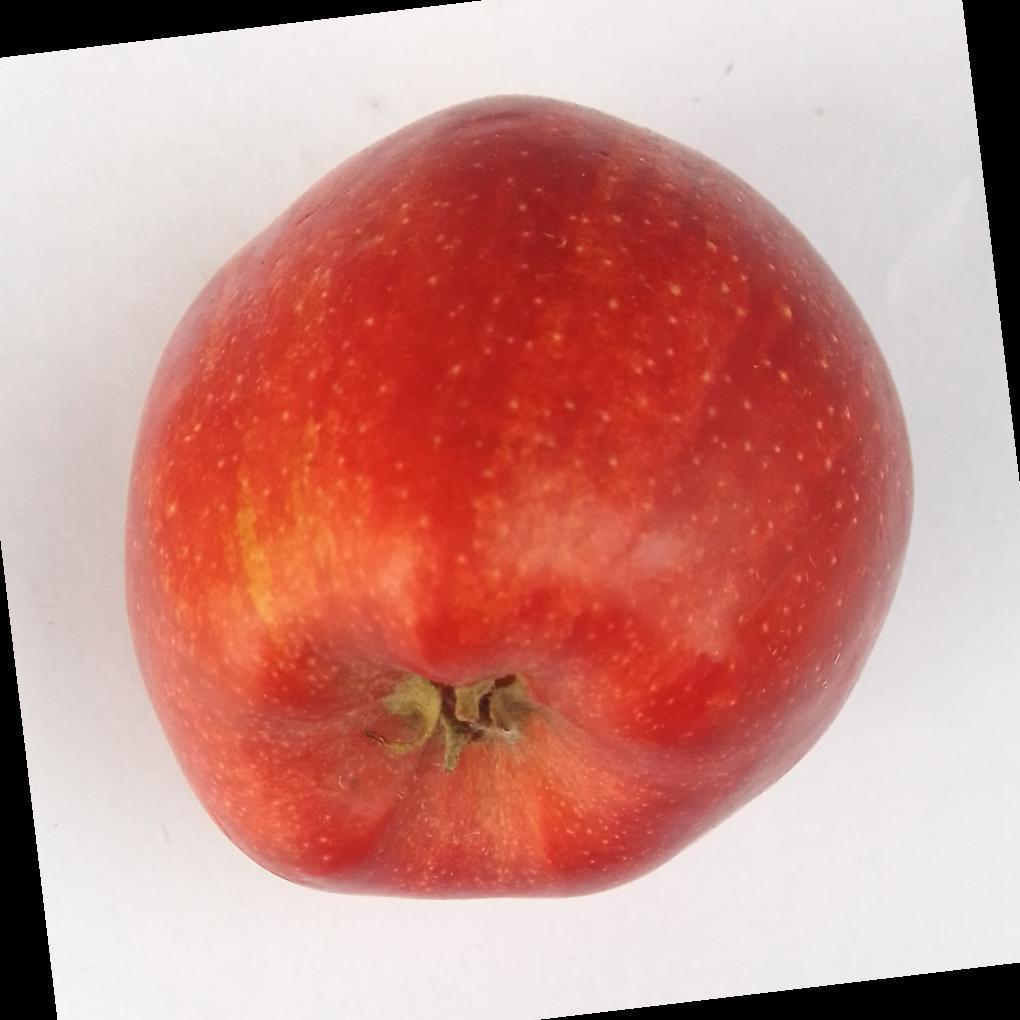FreshGuava: (121, 96, 916, 904)
